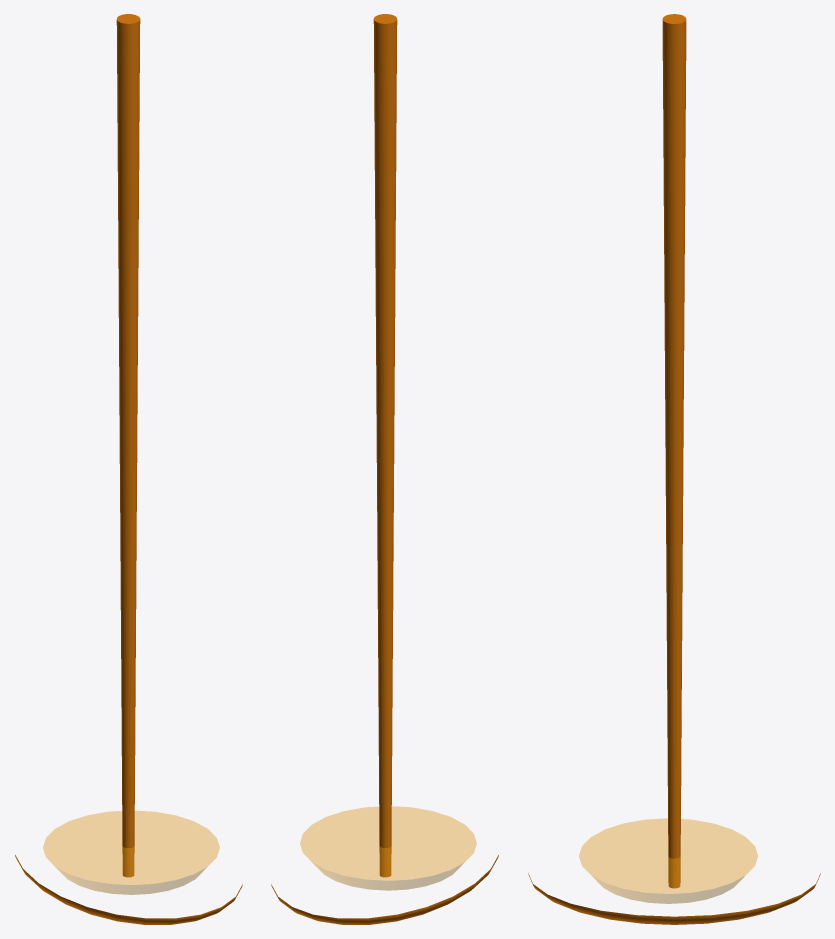
File: golden_spoon.glb
The picture shows the model from 3 angles, left to right: view 1: azimuth 30°, elevation 25°; view 2: azimuth 150°, elevation 25°; view 3: azimuth 270°, elevation 25°; orthographic projection.
Visible parts, largest first — view 1: GoldenTastingSpoon; view 2: GoldenTastingSpoon; view 3: GoldenTastingSpoon.
Part boxes in pixels (x1,y1,x2,y2): GoldenTastingSpoon: (15,14,242,924); GoldenTastingSpoon: (271,14,498,924); GoldenTastingSpoon: (528,14,820,924).
Bounding box in the file's own units: 0.7 × 3.26 × 0.98.
